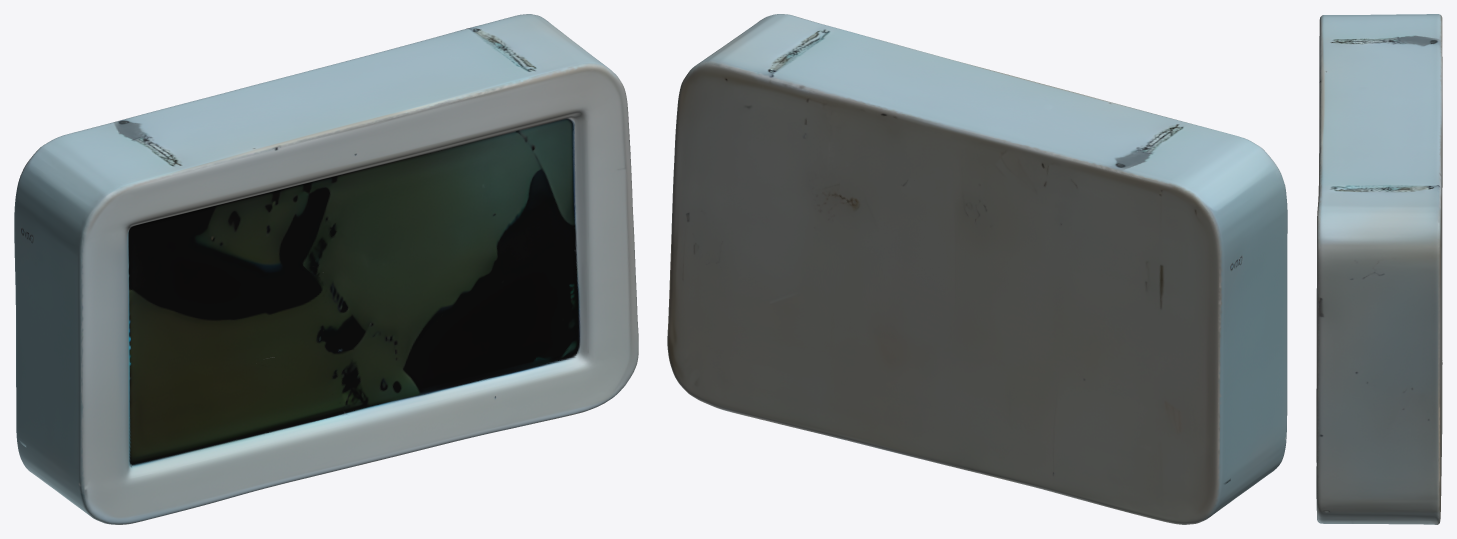
The model's file is clock.fbx.
3 renders of one model, left to right at view 1: azimuth 30°, elevation 25°; view 2: azimuth 150°, elevation 25°; view 3: azimuth 270°, elevation 25°, orthographic. The views are drawn at different scales.
Parts seen in each view (by area): view 1: texture_v100; view 2: texture_v100; view 3: texture_v100.
Part boxes in pixels (<box>): texture_v100: <box>14,14,638,524</box>; texture_v100: <box>667,14,1287,524</box>; texture_v100: <box>1316,14,1442,524</box>.
Bounding box in the file's own units: 107 × 64.54 × 23.51.
1 material, 1 textured.
